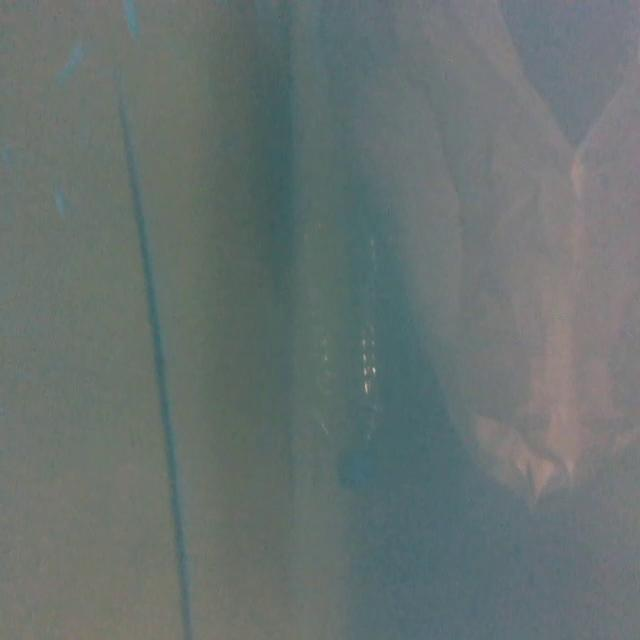plastic bags: (360, 0, 597, 615)
plastic bottle: (285, 195, 392, 521)
